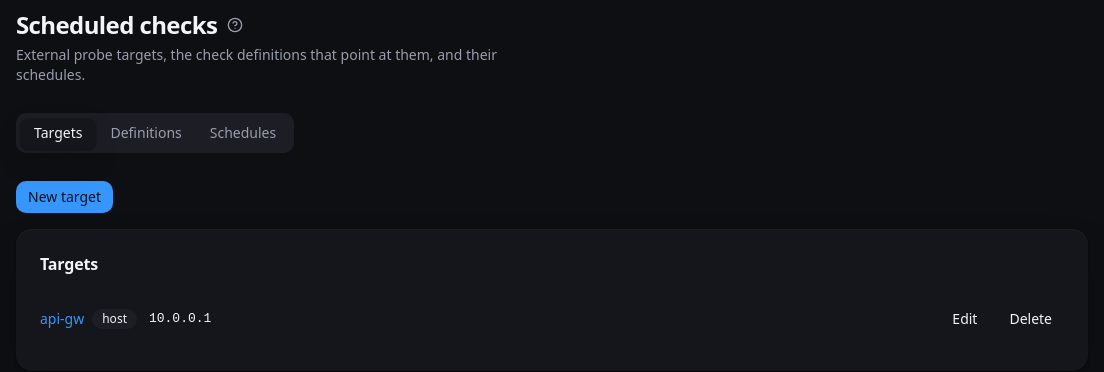
it: a failure the server did not explain › still prefers the server's own sentence when there IS one
Click the button with aria-label "Delete api-gw": (1031, 319) top-left (997, 303), bottom-right (1064, 335)
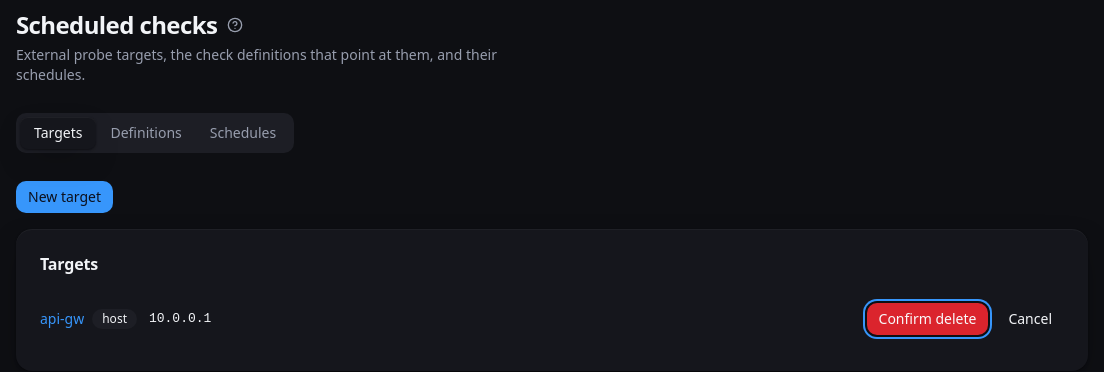
Click the button with aria-label "Confirm delete api-gw": (927, 319) top-left (866, 303), bottom-right (988, 335)
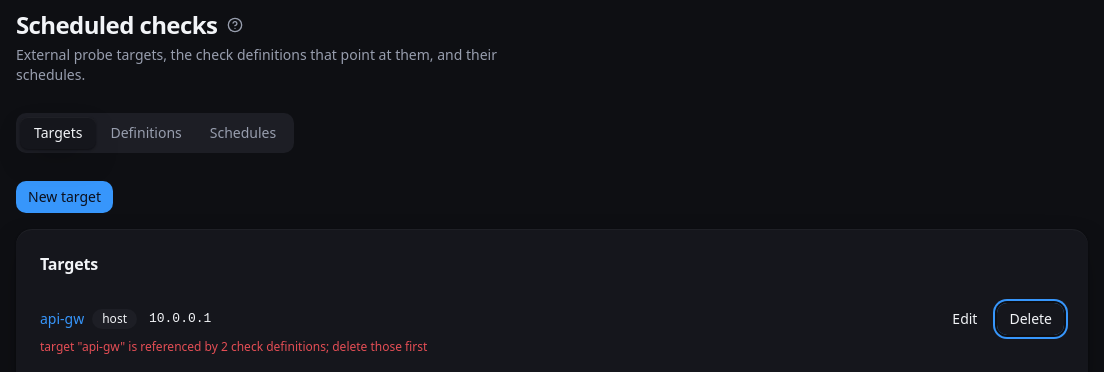
Check: the message reads "target \"api-gw\" is referenced by 2 check definitions; delete those first", box top-left (40, 338), bottom-right (427, 355)
